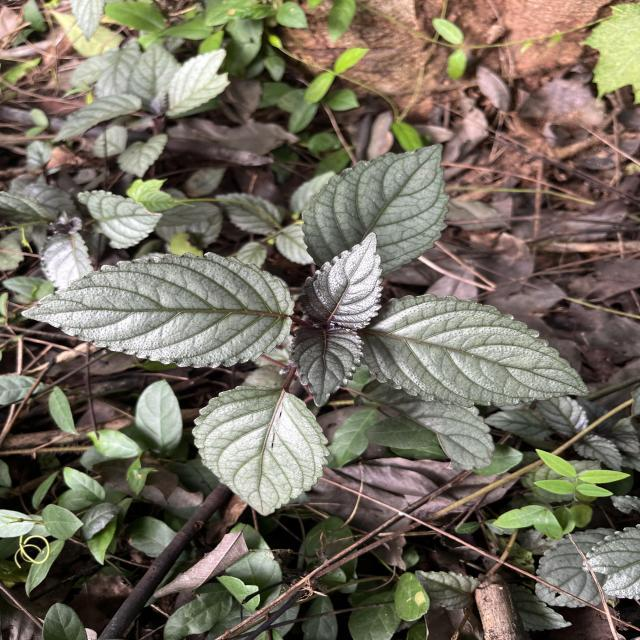Hemigraphis colorata: (18, 248, 298, 372), (357, 292, 592, 412), (300, 140, 454, 282), (190, 381, 334, 518), (288, 228, 388, 335), (284, 325, 368, 411)
